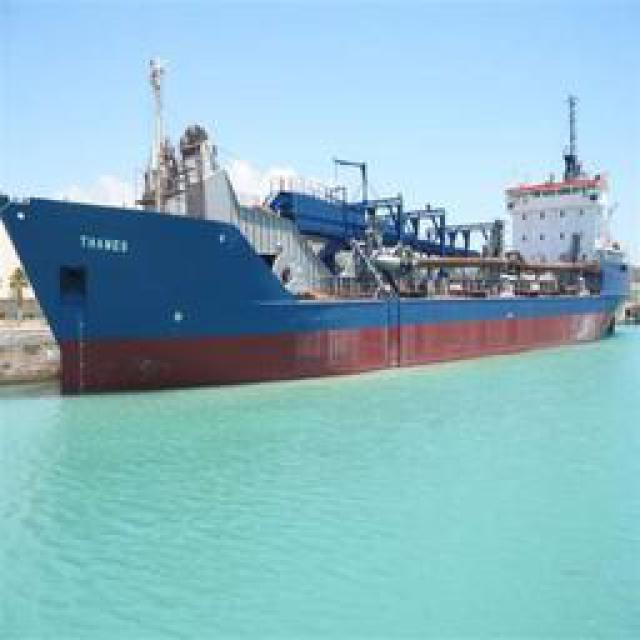Ship: (11, 105, 624, 425)
